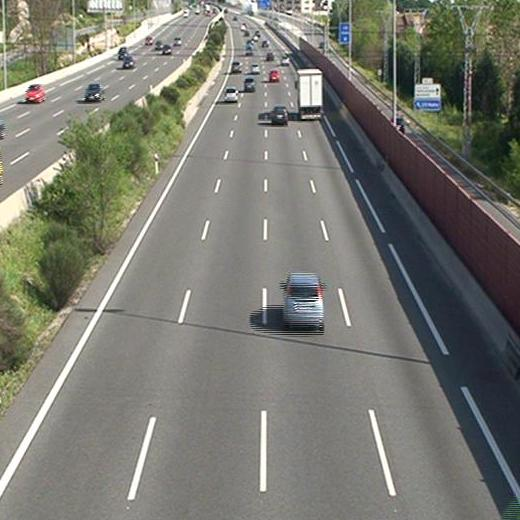car: (282, 274, 323, 326), (271, 106, 288, 124), (224, 87, 237, 103), (244, 78, 255, 92), (231, 61, 242, 74), (269, 69, 280, 80), (280, 56, 290, 66), (249, 63, 259, 73)
small-truck: (295, 69, 322, 119)
